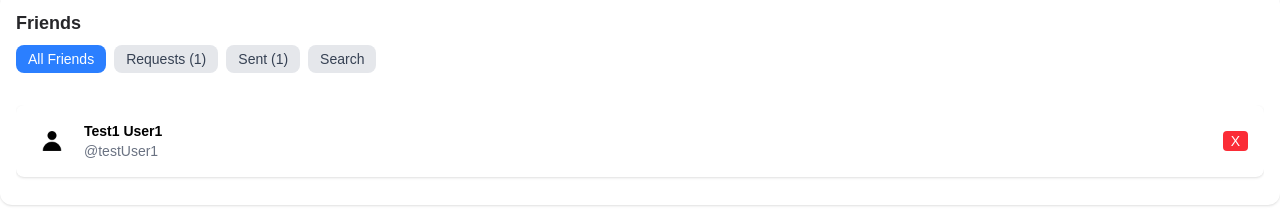
Test: FriendPanel › shows sent requests when Sent tab is clicked
The image size is (1280, 223).
Click the button "Sent (1)".
click(263, 59)  # box x1=226 y1=45 x2=300 y2=73
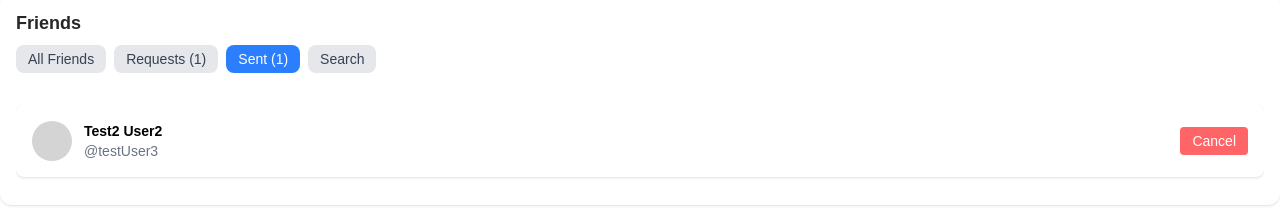
Expected: the text "@testUser3" is shown, x1=84 y1=141 x2=162 y2=161
